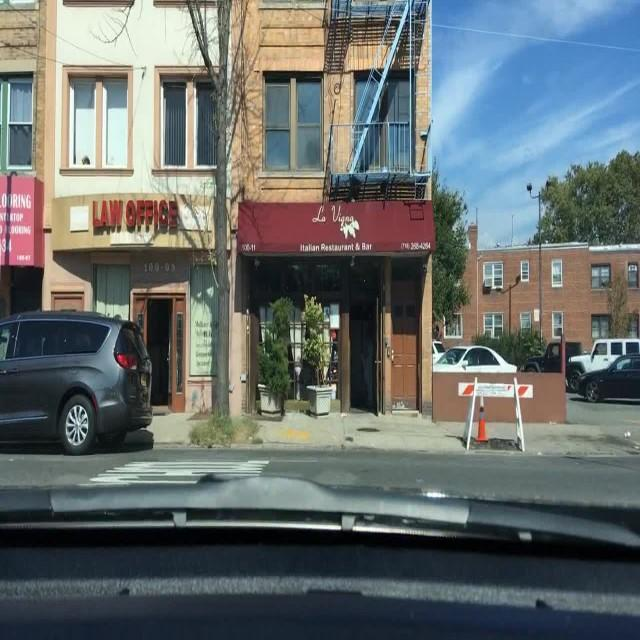normal: (0, 315, 151, 460), (570, 354, 640, 402), (524, 340, 587, 372)
